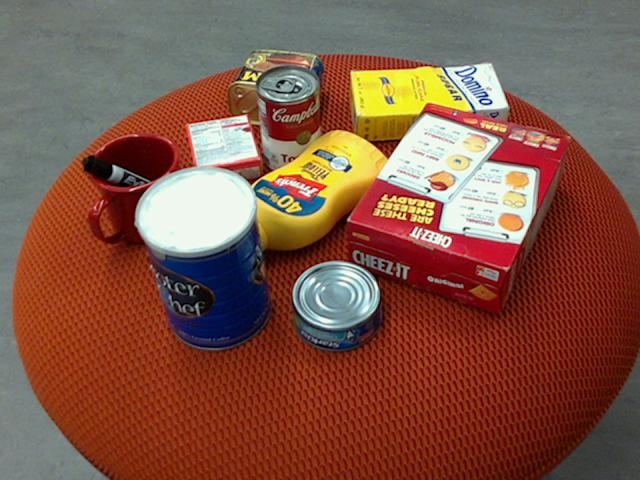cracker_box: (346, 101, 571, 311)
gelatin_box: (185, 113, 261, 189)
large_marker: (81, 155, 182, 210)
master_chef_can: (131, 167, 271, 351)
mug: (86, 133, 186, 243)
mustard_bottle: (224, 130, 392, 256)
potted_meat_can: (227, 50, 324, 129)
sugar_box: (348, 62, 509, 141)
tomato_soup_can: (255, 63, 321, 174)
tuna_fish_can: (292, 261, 383, 352)
